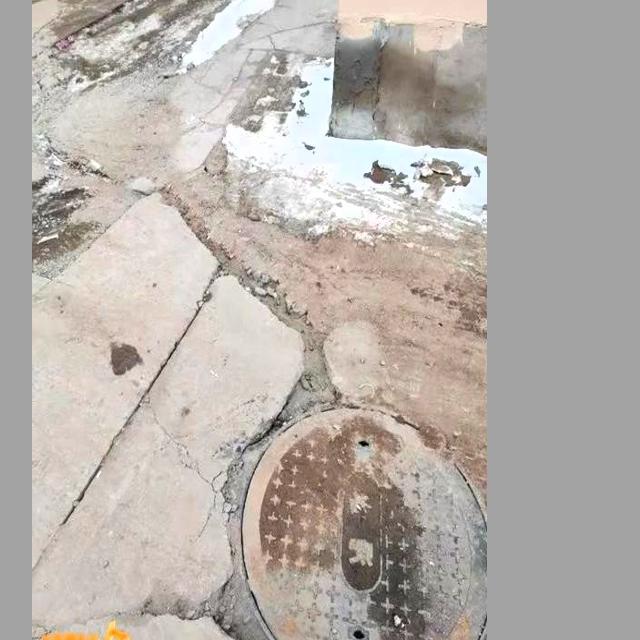circle: (163, 383, 482, 640)
